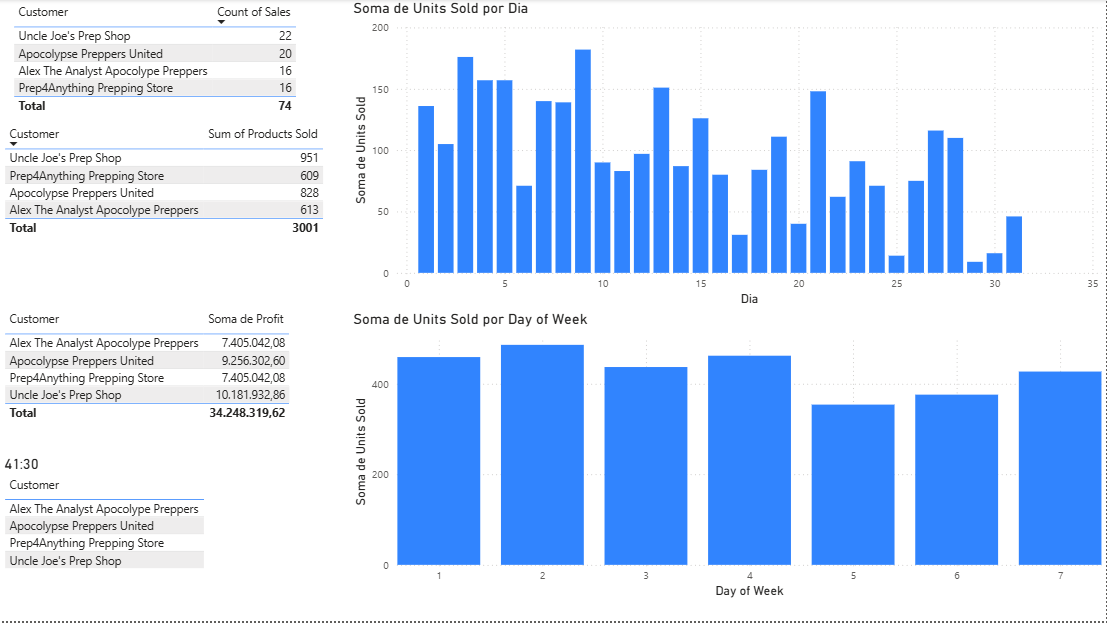

The dashboard page shown, as its layout file describes it:
{"tool":"powerbi","page":{"name":"Página 2","canvas":[1280,720],"ordinal":1},"visuals":[{"type":"tableEx","fields":{"Values":["Apocolypse Sales.Customer","Apocolypse Sales.Count of Sales"]},"box":[10.4,0,372.7,141.2],"z":0},{"type":"tableEx","fields":{"Values":["Apocolypse Sales.Customer","Apocolypse Sales.Sum of Products Sold"]},"box":[0,141.2,383.2,149.3],"z":1000},{"type":"tableEx","fields":{"Values":["Apocolypse Sales.Customer","Sum(Apocolypse Sales.Profit)"]},"box":[0,355.4,383.2,148.2],"z":2000},{"type":"tableEx","title":"41:30","fields":{"Values":["Apocolypse Sales.Customer"]},"box":[0,527.5,383,150],"z":3000},{"type":"clusteredColumnChart","fields":{"Category":["Apocolypse Sales.Day of Week"],"Y":["Sum(Apocolypse Sales.Units Sold)"]},"box":[404,360,876.3,338],"z":4000},{"type":"clusteredColumnChart","fields":{"Y":["Sum(Apocolypse Sales.Units Sold)"],"Category":["Apocolypse Sales.Date Purchased.Variation.Hierarquia de datas.Dia"]},"box":[404,0,876.3,360],"z":5000}]}

Visuals, with their boxes in screenshot pixels (x1, y1, x2, y2), scaled from the page's 1280x720 canvas onto the 1107x623 screenshot:
tableEx - Apocolypse Sales.Customer x Apocolypse Sales.Count of Sales: [x1=9, y1=0, x2=331, y2=122]
tableEx - Apocolypse Sales.Customer x Apocolypse Sales.Sum of Products Sold: [x1=0, y1=122, x2=331, y2=251]
tableEx - Apocolypse Sales.Customer x Sum(Apocolypse Sales.Profit): [x1=0, y1=308, x2=331, y2=436]
"41:30" tableEx: [x1=0, y1=456, x2=331, y2=586]
clusteredColumnChart - Apocolypse Sales.Day of Week x Sum(Apocolypse Sales.Units Sold): [x1=349, y1=312, x2=1106, y2=604]
clusteredColumnChart - Sum(Apocolypse Sales.Units Sold) x Apocolypse Sales.Date Purchased.Variation.Hierarquia de datas.Dia: [x1=349, y1=0, x2=1106, y2=312]
